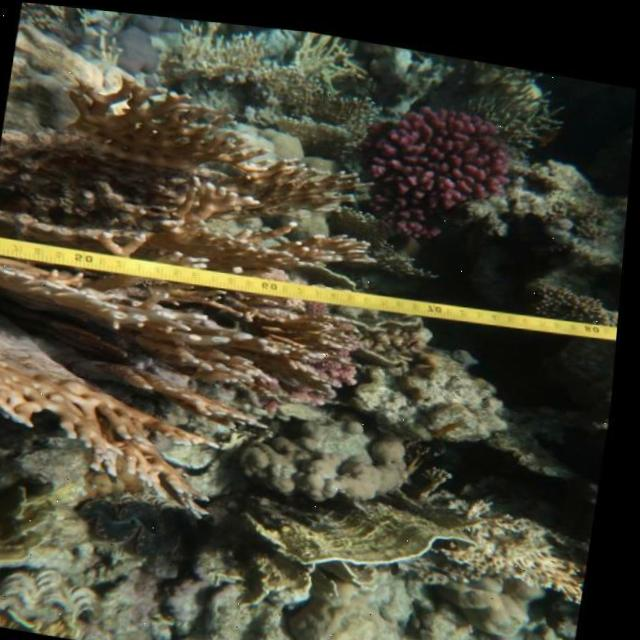Healthy Coral: (0, 68, 388, 480), (349, 81, 527, 243)
